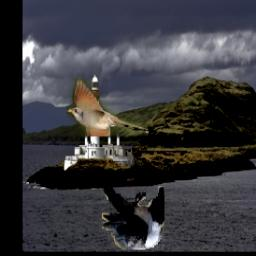Crow: (103, 186, 165, 250)
Cuckoo: (66, 79, 149, 138)
